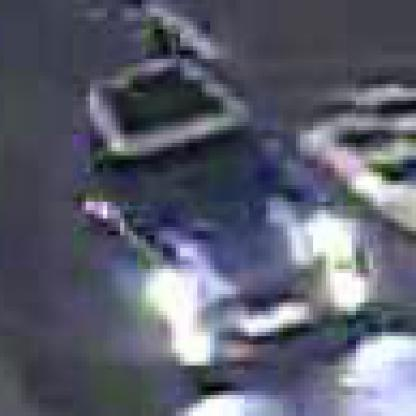car: (87, 60, 357, 371)
